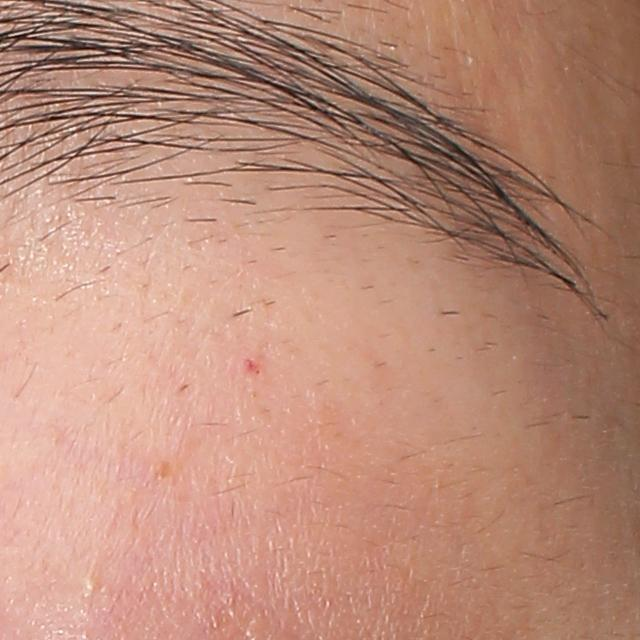comedo: (78, 577, 99, 597)
